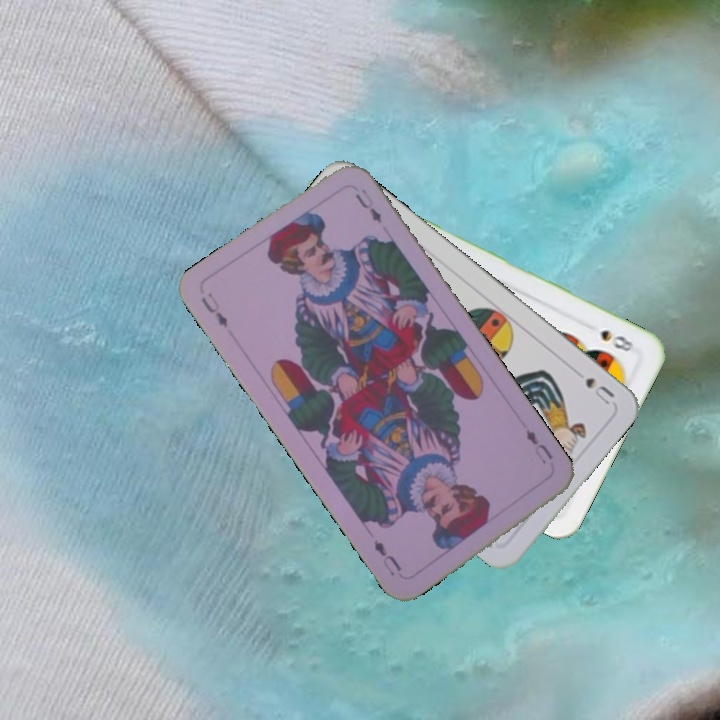EU: (196, 288, 231, 331), (521, 425, 555, 467)
S8: (596, 326, 642, 357)
SU: (581, 373, 617, 408)
